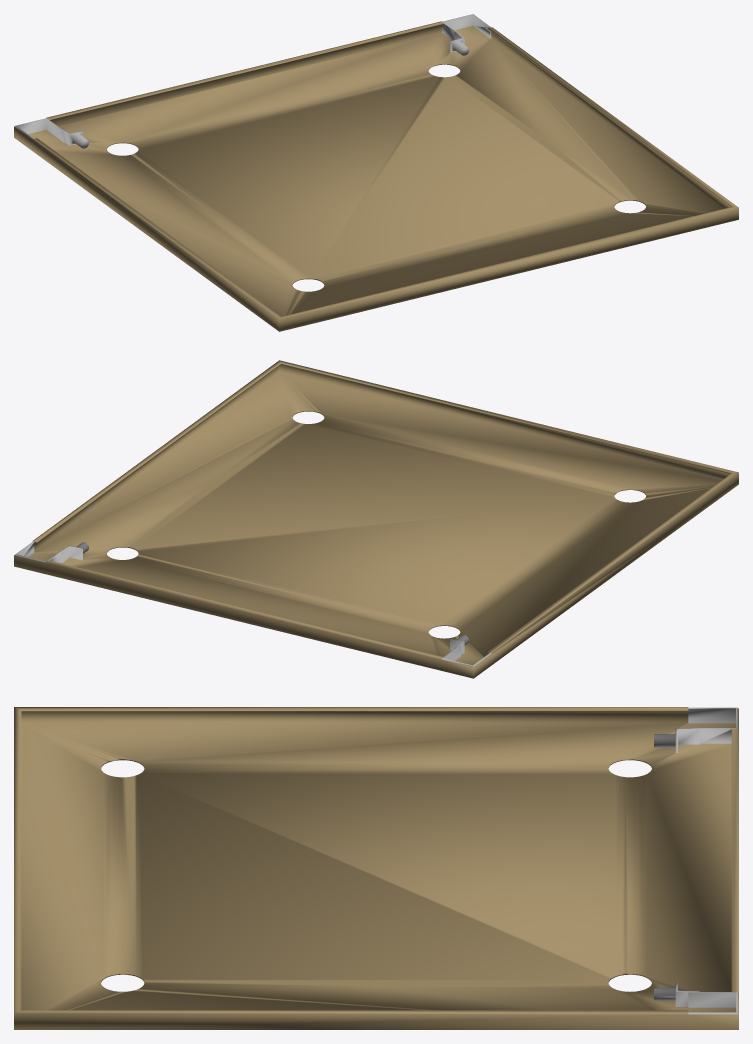
File: pannel.obj
3 renders of one model, top to bottom at view 1: azimuth 30°, elevation 25°; view 2: azimuth 150°, elevation 25°; view 3: azimuth 270°, elevation 25°, orthographic. The views are drawn at different scales.
Parts seen in each view (by area): view 1: kleeman-ceiling; view 2: kleeman-ceiling; view 3: kleeman-ceiling.
Boxes of the visible parts, x1,y1,x2,y2 form: kleeman-ceiling: [14, 14, 738, 331]; kleeman-ceiling: [14, 360, 738, 678]; kleeman-ceiling: [14, 707, 738, 1029].
Size of the model in its own units: 1000 by 26 by 1000.
Materials: 2 (1 with a texture image).
